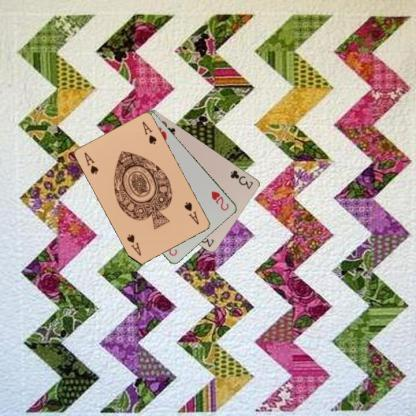2h: (208, 188, 230, 212)
3c: (228, 168, 255, 190)
As: (81, 150, 100, 176), (182, 199, 200, 226)
